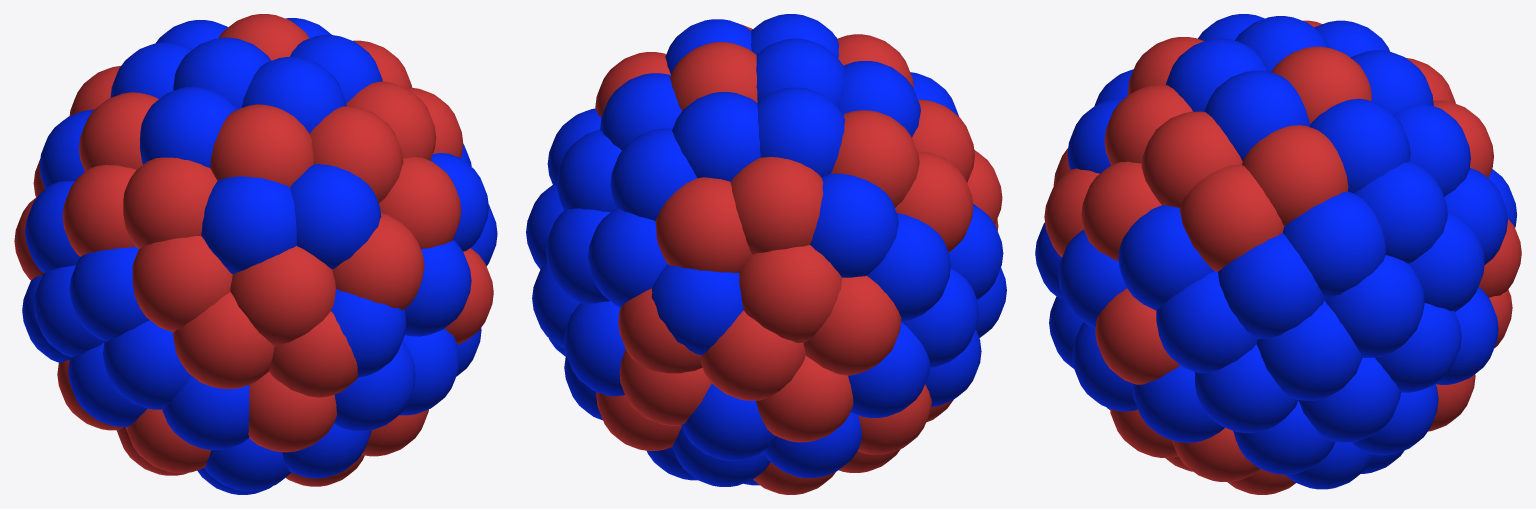
The model's file is uranium.glb.
The picture shows the model from 3 angles, left to right: view 1: azimuth 30°, elevation 25°; view 2: azimuth 150°, elevation 25°; view 3: azimuth 270°, elevation 25°; orthographic projection.
Parts seen in each view (by area): view 1: atom-nucleus; view 2: atom-nucleus; view 3: atom-nucleus.
Boxes of the visible parts, x1,y1,x2,y2 form: atom-nucleus: (14,14,497,494); atom-nucleus: (526,14,1006,494); atom-nucleus: (1035,14,1521,494).
Size of the model in its own units: 2.57 by 2.58 by 2.6.
